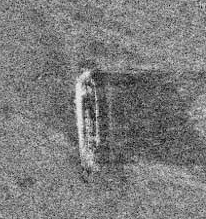ship: (73, 69, 109, 170)
